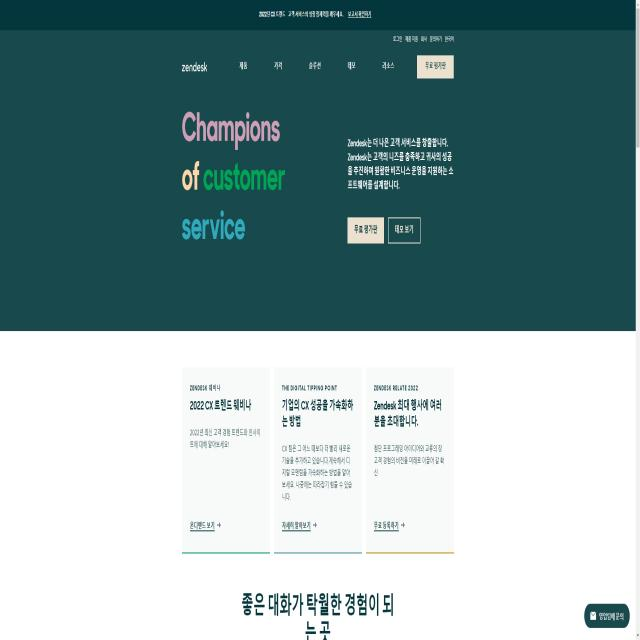menu-bar: (387, 30, 454, 48)
tab-bar: (232, 53, 454, 84), (344, 206, 424, 252)
